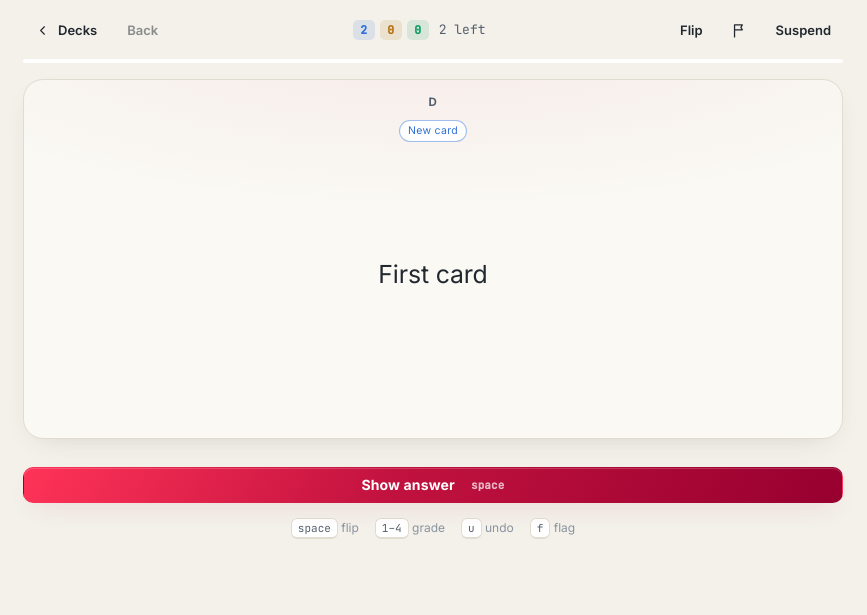
Test case: the one-minute card comes back inside the session › with other cards queued, the Again card returns after them — not lost
Click the button "Show answer space" at (433, 485), box [23,467,843,503]
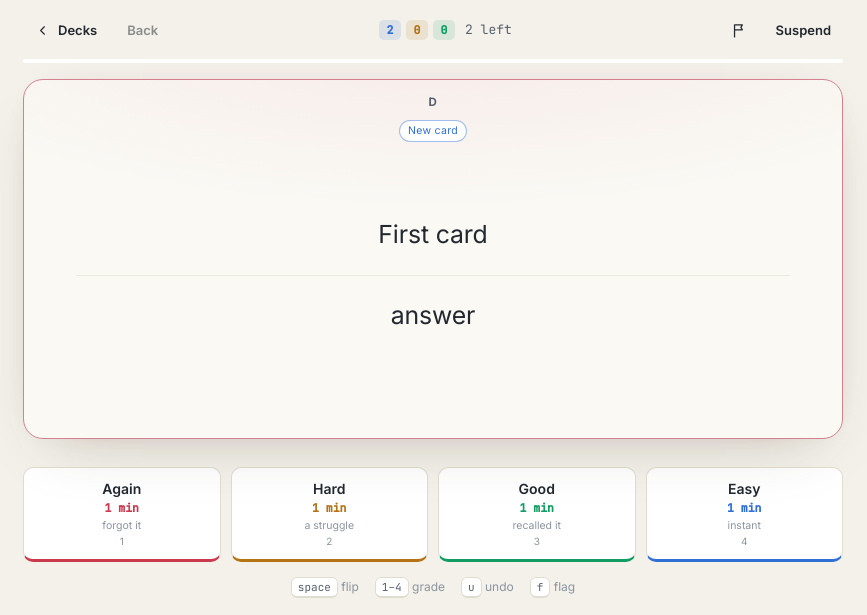
Click the text "Again" at (122, 488), box [102,480,141,497]
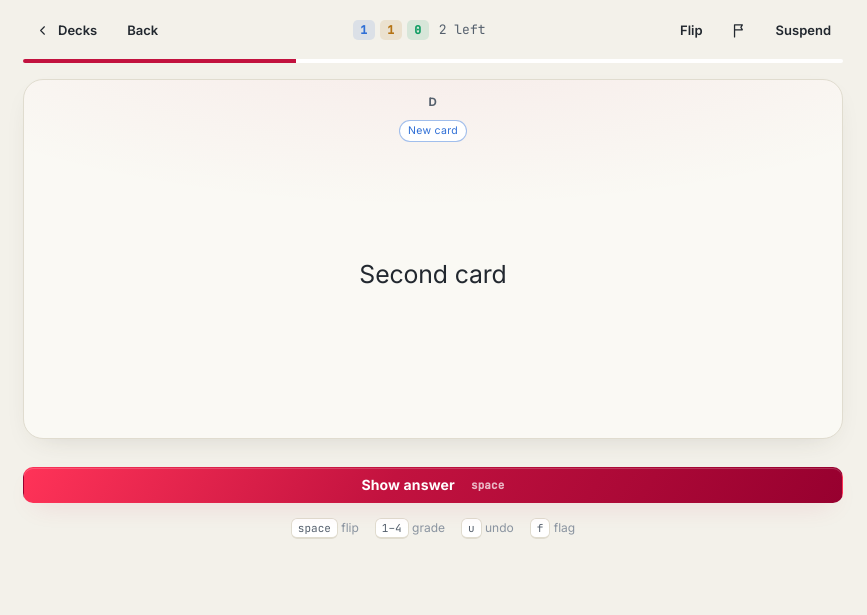
Expected: the text "Second card" is shown, [359,259,507,289]
Click the button "Show answer space" at (433, 485), box [23,467,843,503]
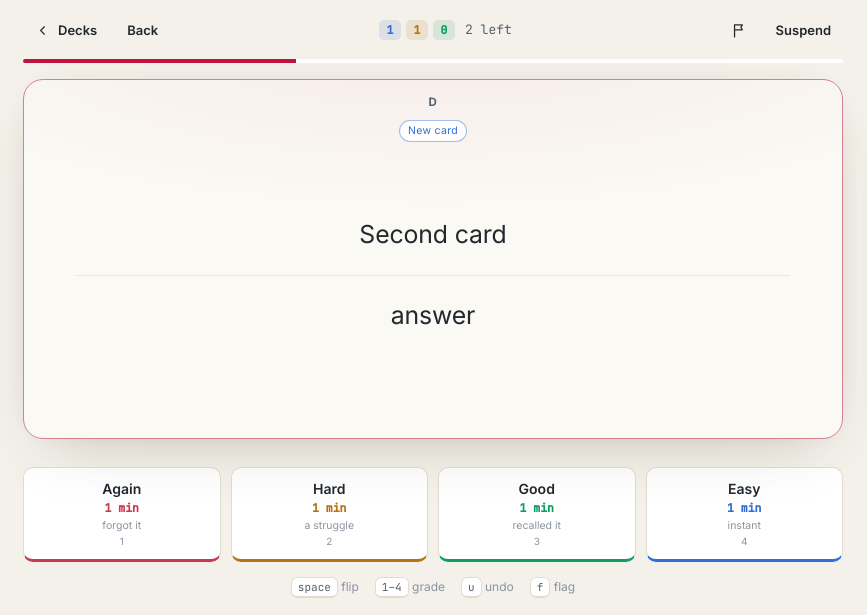
Click the text "Easy" at (744, 488), box [728,480,760,497]
Wait 61000 ms
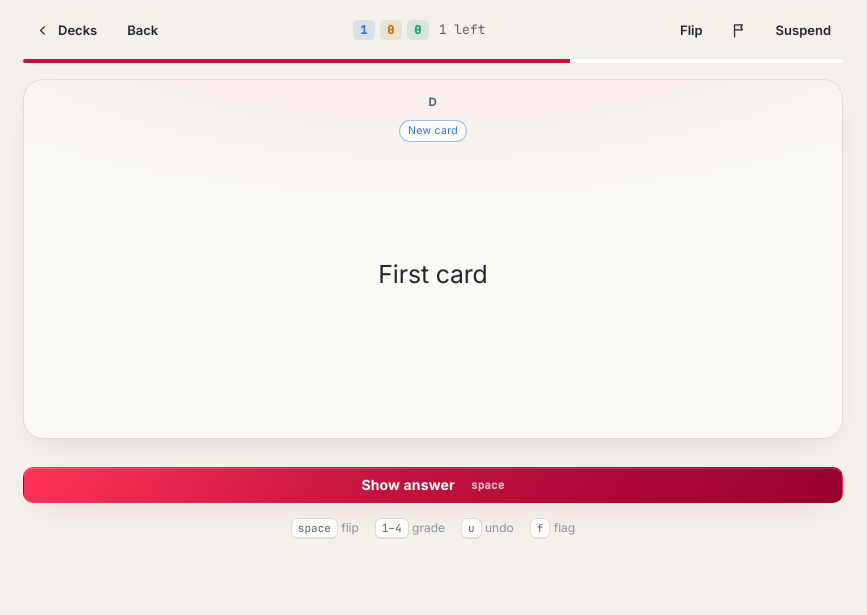
Expected: the text "First card" is shown, [378,259,488,289]
